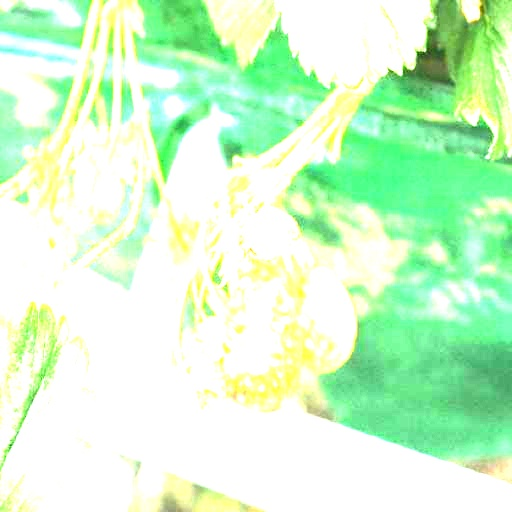Gray Mold: (209, 204, 302, 288)
